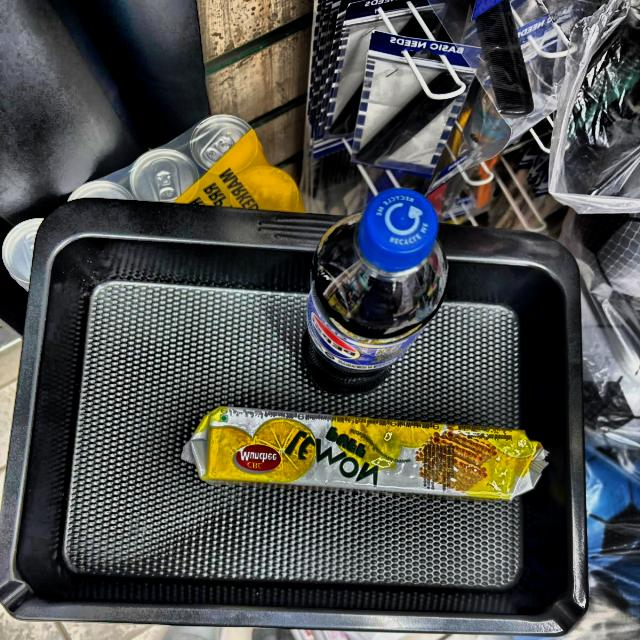lemon puff: (183, 414, 553, 498)
pepsi-bottle: (299, 180, 455, 390)
